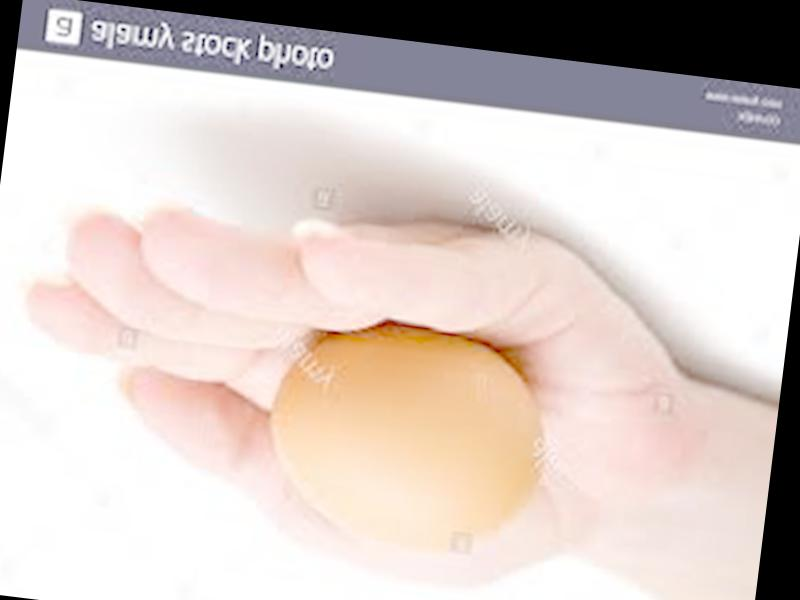Eggs: (259, 314, 558, 568)
